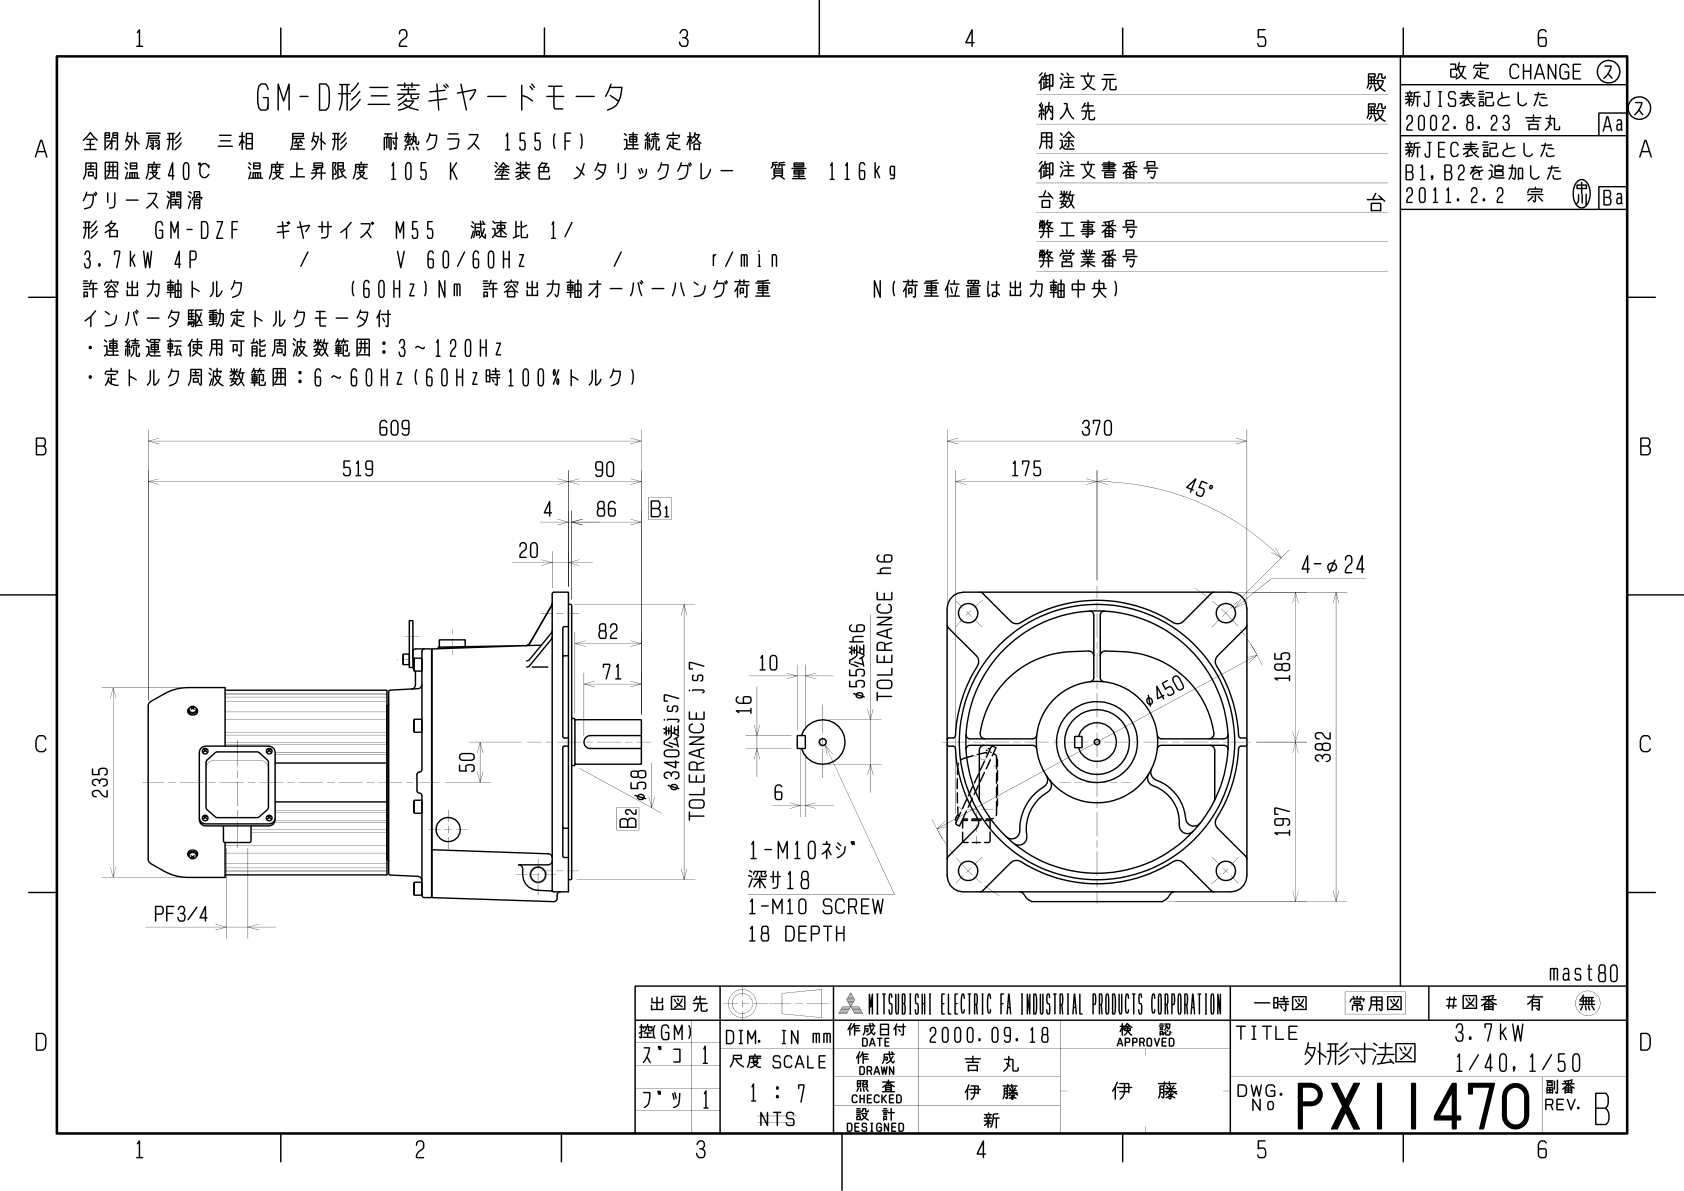GM_D_インバータ屋外_三相_フランジ: (77, 403, 1386, 973)
